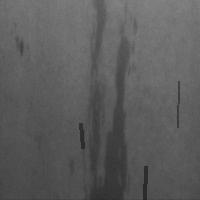inclusion: (85, 3, 134, 197), (84, 1, 109, 85), (175, 79, 180, 129), (142, 164, 147, 200), (78, 121, 84, 150)
